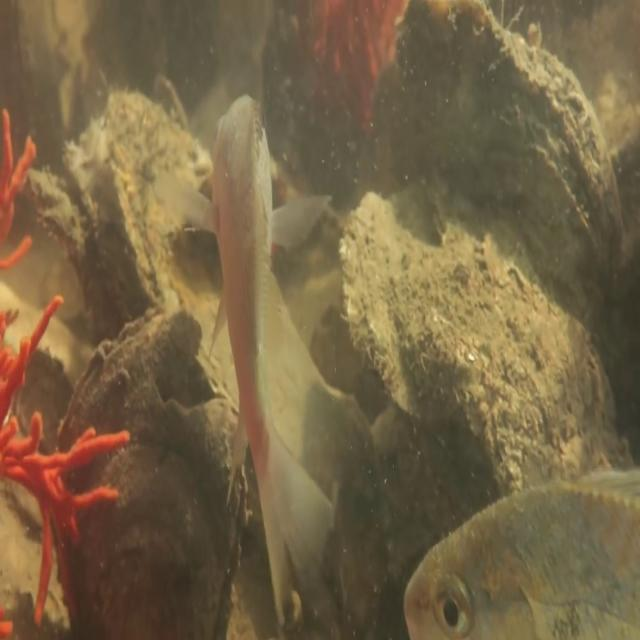Oyster-Closed: (396, 0, 626, 392), (21, 83, 266, 420), (50, 295, 252, 638)
Oyster-Indeterminate: (334, 166, 637, 484)
